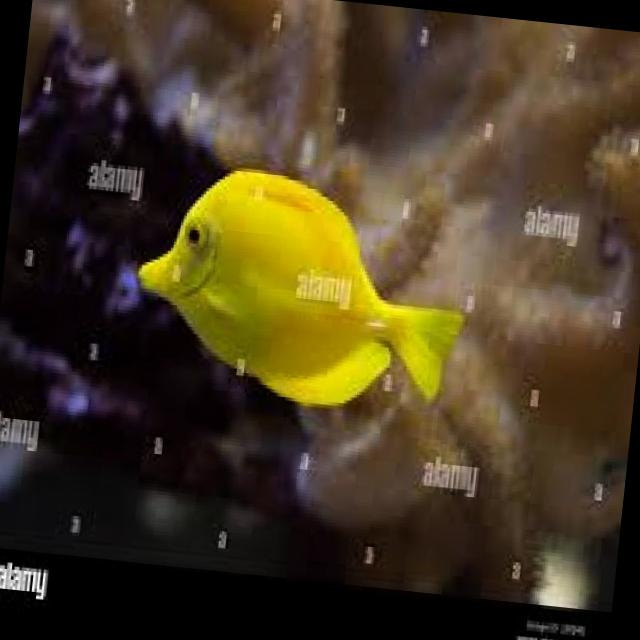TangFish: (122, 154, 477, 423)
